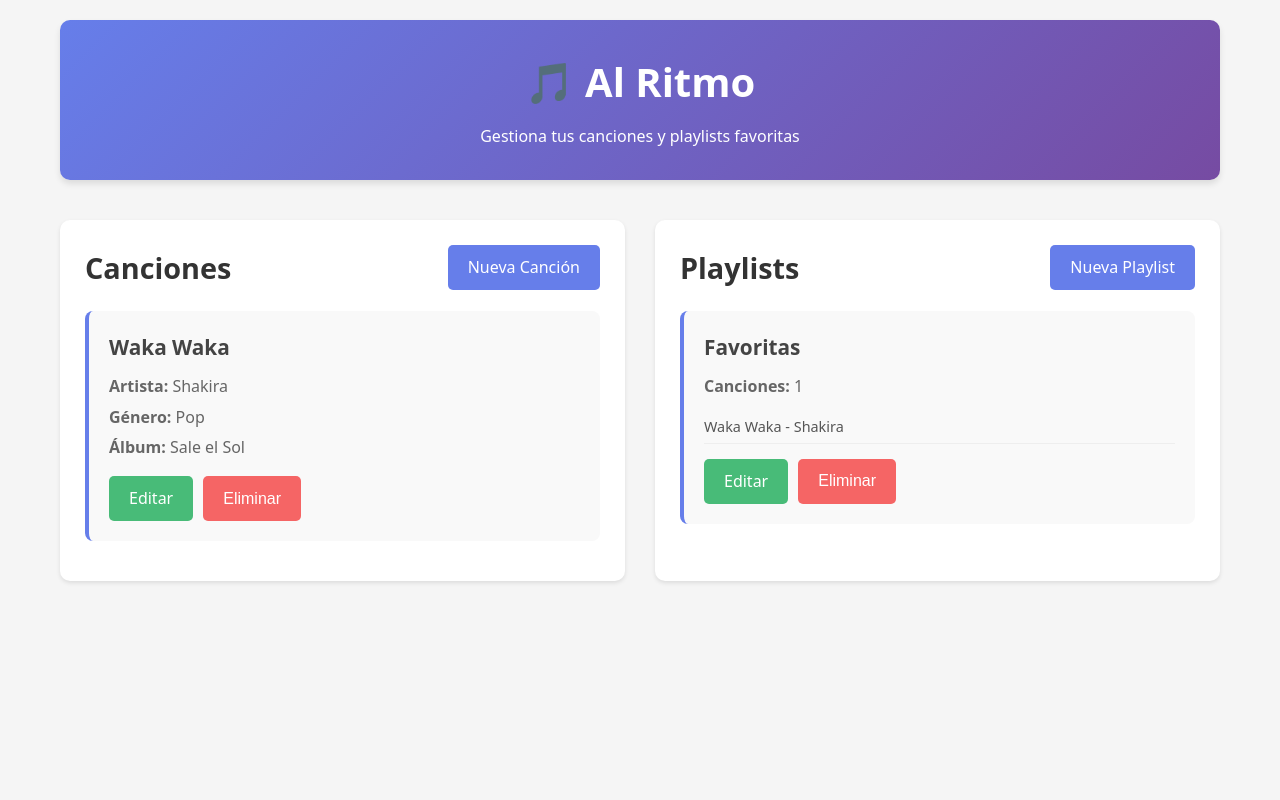
Test: Home › no elimina si el usuario cancela, y muestra el error si falla
Click the button with aria-label "Eliminar Waka Waka": (252, 498) [203,476,301,521]
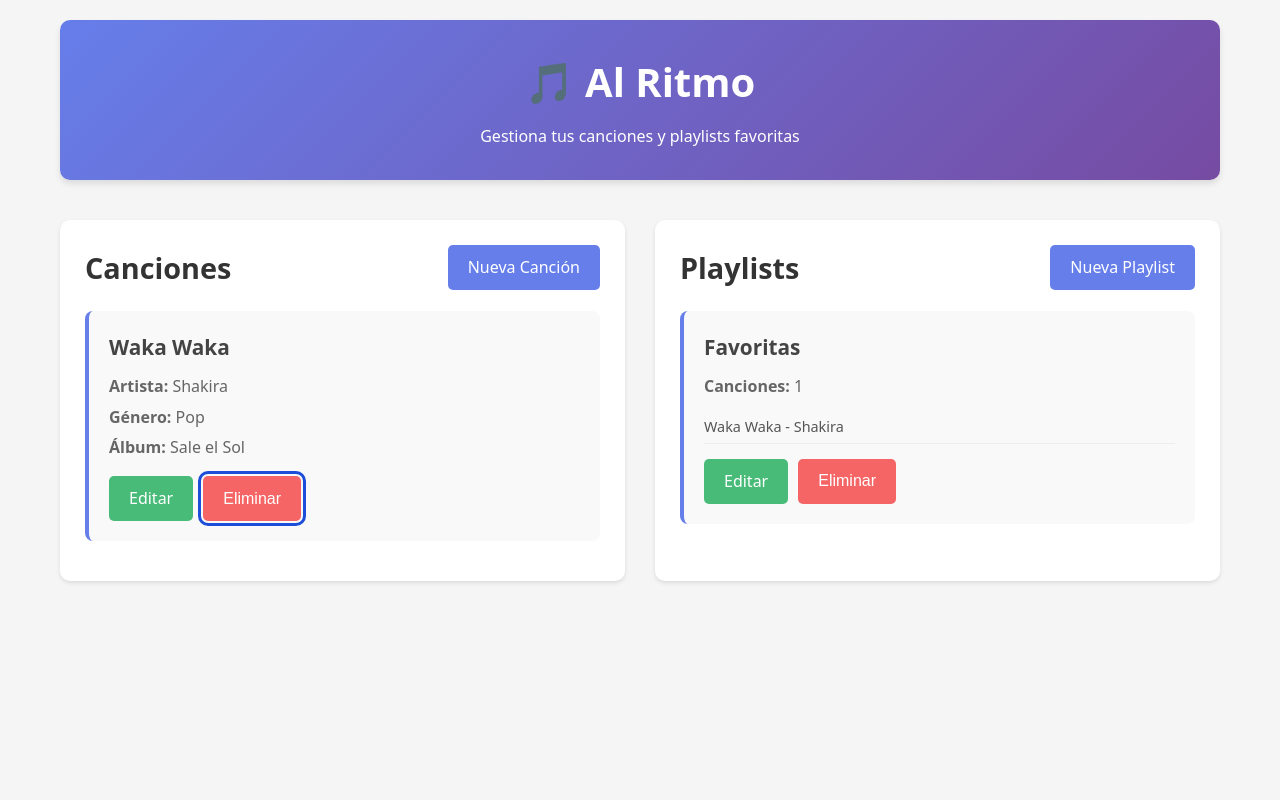
Click the button with aria-label "Eliminar Waka Waka": (252, 498) [203,476,301,521]
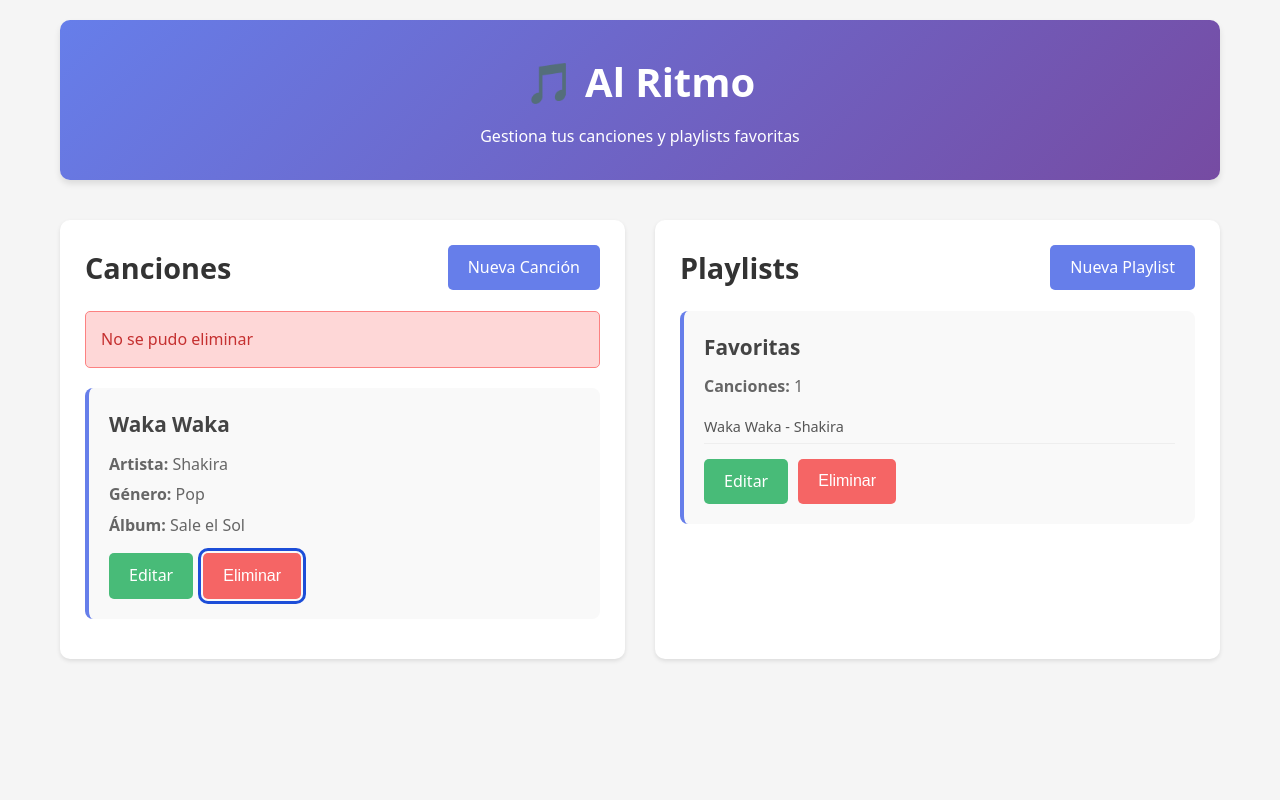
Now the message reads "No se pudo eliminar", box [101,328,253,350]
